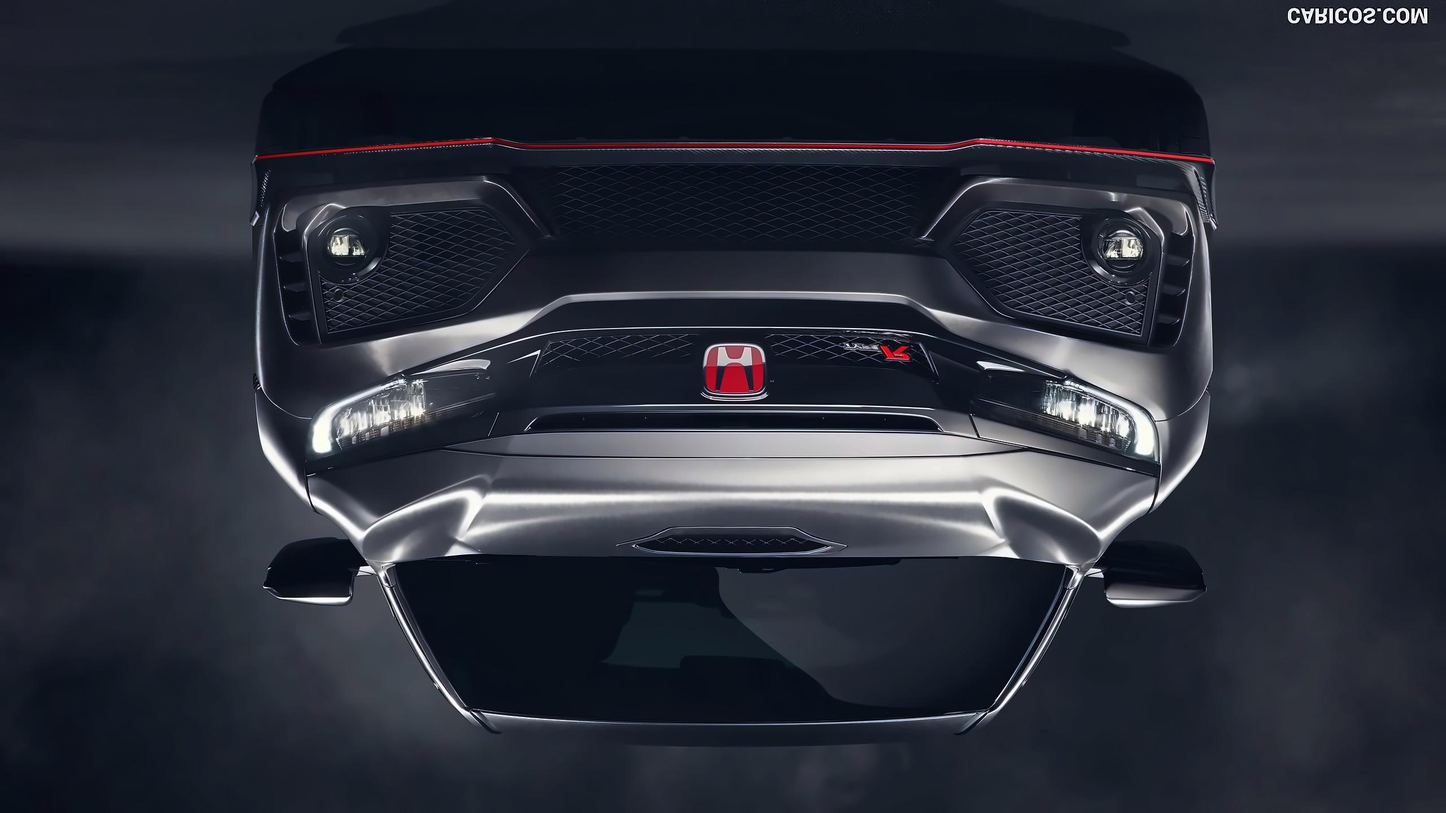Car hood: (296, 420, 1167, 569)
Front bumper: (245, 34, 1220, 378)
Headlight - -L-: (300, 356, 518, 463)
Headlight - -R-: (955, 354, 1153, 470)
Side mirror - -L-: (258, 527, 378, 627)
Side mirror - -R-: (1087, 525, 1218, 621)
